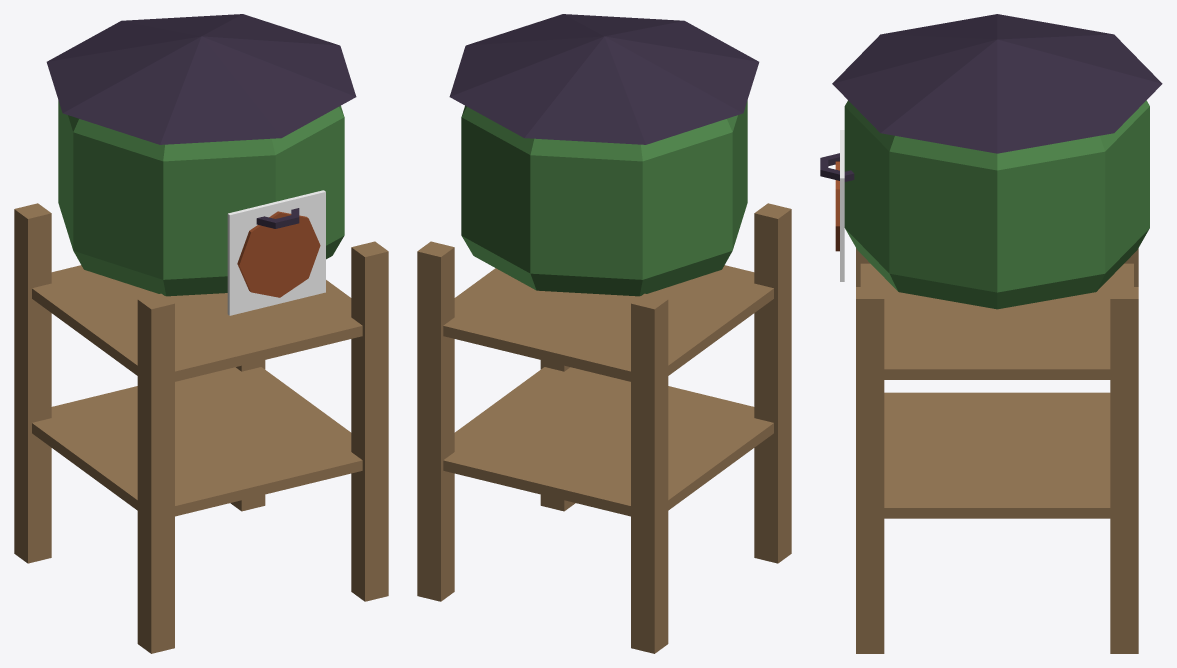
The model's file is wildwest-g2.glb.
3 views of the same model, side by side, from view 1: azimuth 30°, elevation 25°; view 2: azimuth 150°, elevation 25°; view 3: azimuth 270°, elevation 25° (orthographic). The views are drawn at different scales.
Parts seen in each view (by area): view 1: wildwest-g2; view 2: wildwest-g2; view 3: wildwest-g2.
Boxes of the visible parts, bbox=[...] form: wildwest-g2: bbox=[14, 14, 388, 653]; wildwest-g2: bbox=[417, 14, 791, 653]; wildwest-g2: bbox=[820, 14, 1162, 653].
Bounding box in the file's own units: 1.4 × 2.6 × 1.45.
